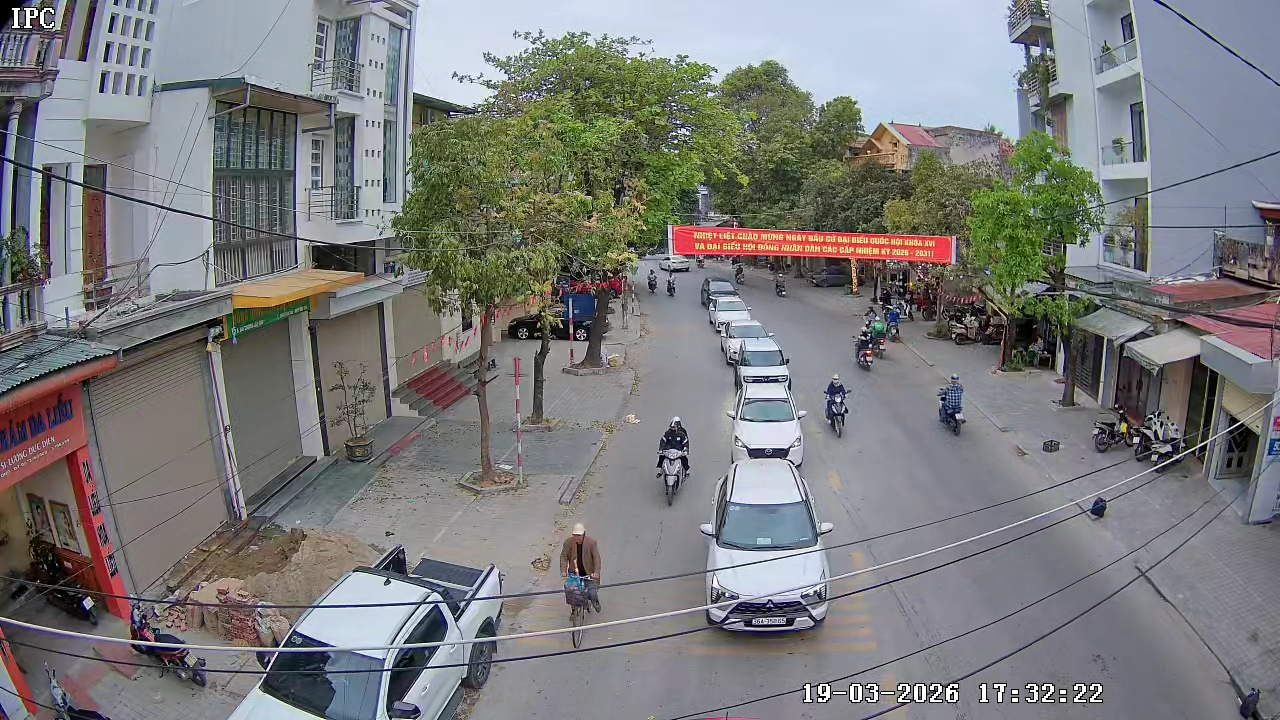bike: (558, 521, 607, 634)
car: (699, 458, 835, 635), (727, 386, 809, 461), (733, 337, 794, 395), (722, 317, 774, 369), (712, 293, 753, 337)
motorbike: (656, 420, 689, 507), (936, 372, 967, 436), (822, 372, 851, 438), (857, 334, 876, 371)
